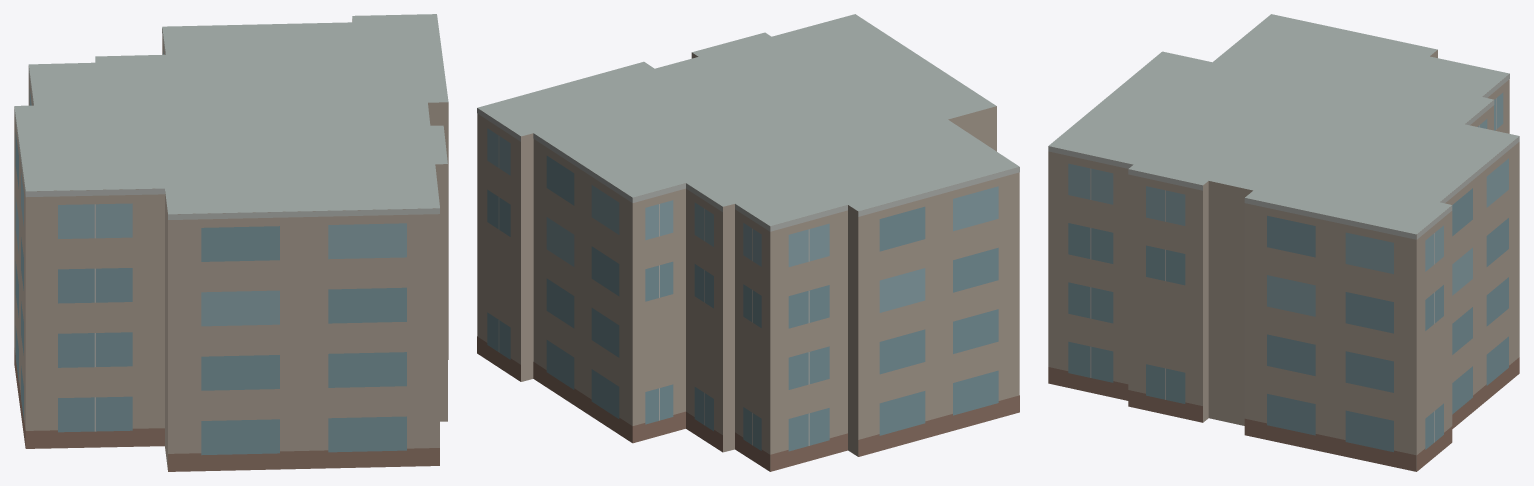
Rendered from survey-upis-32591634.glb.
The picture shows the model from 3 angles, left to right: view 1: azimuth 30°, elevation 25°; view 2: azimuth 150°, elevation 25°; view 3: azimuth 270°, elevation 25°; orthographic projection. The views are drawn at different scales.
Visible parts, largest first — view 1: survey-upis-32591634.tmp; view 2: survey-upis-32591634.tmp; view 3: survey-upis-32591634.tmp.
Part boxes in pixels (x1=…): survey-upis-32591634.tmp: x1=14, y1=14, x2=448, y2=471; survey-upis-32591634.tmp: x1=477, y1=14, x2=1019, y2=471; survey-upis-32591634.tmp: x1=1048, y1=14, x2=1519, y2=471.
Size of the model in its own units: 21.52 by 10.8 by 19.44.
